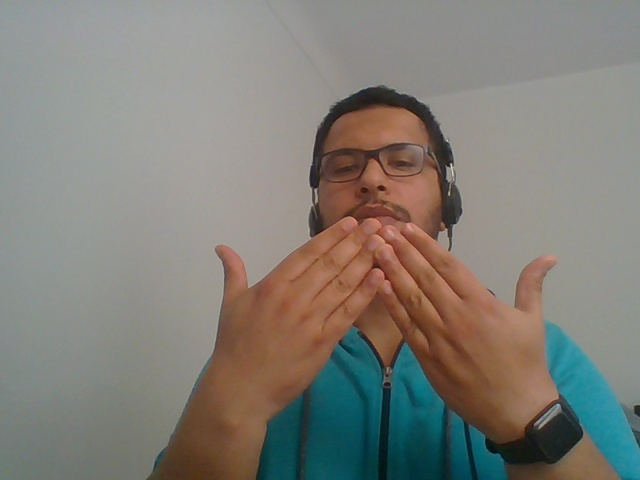thanks: (135, 210, 614, 477)
